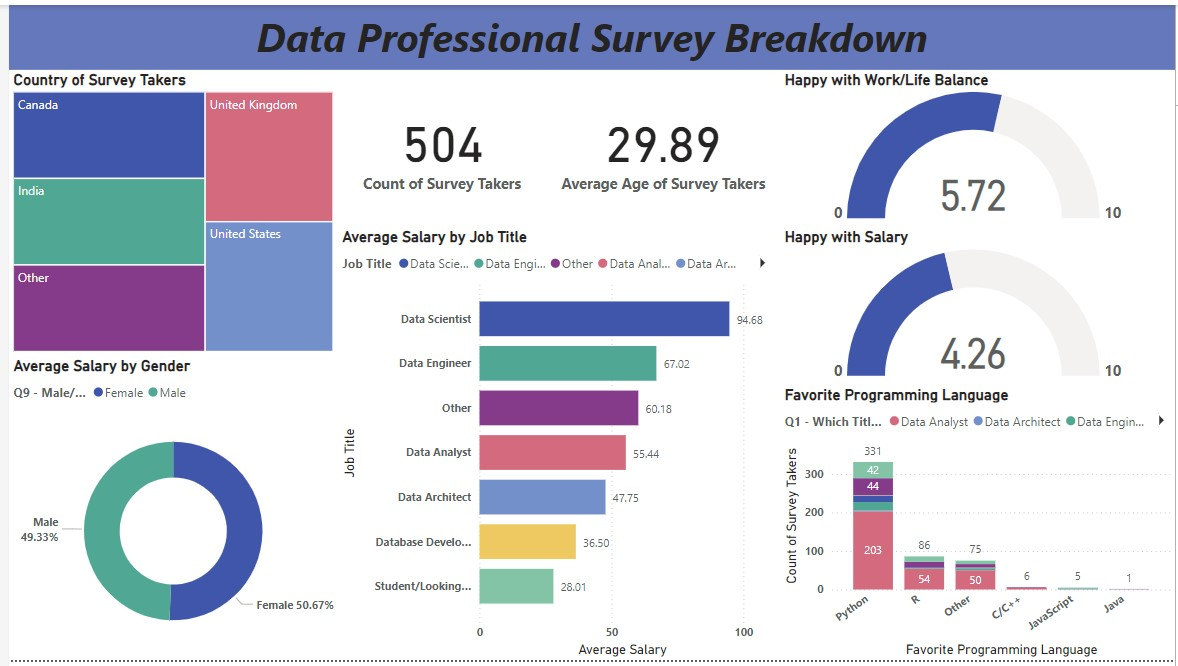

The dashboard page shown, as its layout file describes it:
{"tool":"powerbi","page":{"name":"Data Professional Survey","canvas":[1280,720],"ordinal":0},"visuals":[{"type":"textbox","box":[0,0,1280.3,71.4],"z":0},{"type":"card","fields":{"Values":["Count(Data Professional Survey.Unique ID)"]},"box":[360.9,71.4,229.2,172.9],"z":1000},{"type":"card","fields":{"Values":["Avg(Data Professional Survey.Q10 - Current Age)"]},"box":[590.1,71.4,256.6,172.9],"z":2000},{"type":"barChart","title":"Average Salary by Job Title","fields":{"Category":["Data Professional Survey.Q1 - Which Title Best Fits your Current Role?.1"],"Y":["Avg(Data Professional Survey.Average Salary)"],"Series":["Data Professional Survey.Q1 - Which Title Best Fits your Current Role?.1"]},"box":[360.9,244.3,485.8,476.2],"z":3000},{"type":"treemap","title":"Country of Survey Takers","fields":{"Group":["Data Professional Survey.Q11 - Which Country do you live in?.1"],"Values":["Count(Data Professional Survey.Q11 - Which Country do you live in?.1)"]},"box":[0,71.4,360.9,314.2],"z":4000},{"type":"columnChart","title":"Favorite Programming Language","fields":{"Category":["Data Professional Survey.Q5 - Favorite Programming Language.1"],"Y":["Count(Data Professional Survey.Unique ID)"],"Series":["Data Professional Survey.Q1 - Which Title Best Fits your Current Role?.1"]},"box":[846.7,417.2,433.6,303.3],"z":5000},{"type":"gauge","title":"Happy with Work/Life Balance","fields":{"Y":["Avg(Data Professional Survey.Q6 - How Happy are you in your Current Position with the following? (Work/Life Balance))"],"MinValue":["Min(Data Professional Survey.Q6 - How Happy are you in your Current Position with the following? (Work/Life Balance))1"],"MaxValue":["Max(Data Professional Survey.Q6 - How Happy are you in your Current Position with the following? (Work/Life Balance))2"]},"box":[846.7,71.4,433.6,172.9],"z":6000},{"type":"gauge","title":"Happy with Salary","fields":{"Y":["Avg(Data Professional Survey.Q6 - How Happy are you in your Current Position with the following? (Salary))"],"MinValue":["Min(Data Professional Survey.Q6 - How Happy are you in your Current Position with the following? (Salary))1"],"MaxValue":["Max(Data Professional Survey.Q6 - How Happy are you in your Current Position with the following? (Salary))2"]},"box":[846.7,244.3,433.6,172.9],"z":7000},{"type":"donutChart","title":"Average Salary by Gender","fields":{"Category":["Data Professional Survey.Q9 - Male/Female?"],"Y":["Avg(Data Professional Survey.Average Salary)"]},"box":[0,385,361,335],"z":8000}]}

Visuals, with their boxes in screenshot pixels (x1, y1, x2, y2), scaled from the page's 1280x720 canvas onto the 1178x666 screenshot:
textbox: x1=0 y1=0 x2=1177 y2=66
card - Count(Data Professional Survey.Unique ID): x1=332 y1=66 x2=543 y2=226
card - Avg(Data Professional Survey.Q10 - Current Age): x1=543 y1=66 x2=779 y2=226
"Average Salary by Job Title" barChart: x1=332 y1=226 x2=779 y2=665
"Country of Survey Takers" treemap: x1=0 y1=66 x2=332 y2=357
"Favorite Programming Language" columnChart: x1=779 y1=386 x2=1177 y2=665
"Happy with Work/Life Balance" gauge: x1=779 y1=66 x2=1177 y2=226
"Happy with Salary" gauge: x1=779 y1=226 x2=1177 y2=386
"Average Salary by Gender" donutChart: x1=0 y1=356 x2=332 y2=665
